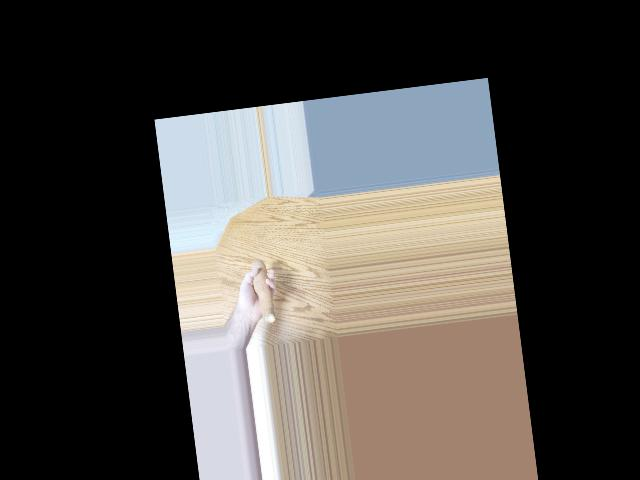sweet_potato: (253, 254, 278, 326)
